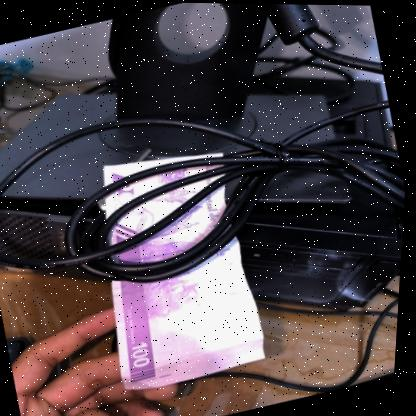one_hundred-back-vef: (74, 135, 283, 395)
